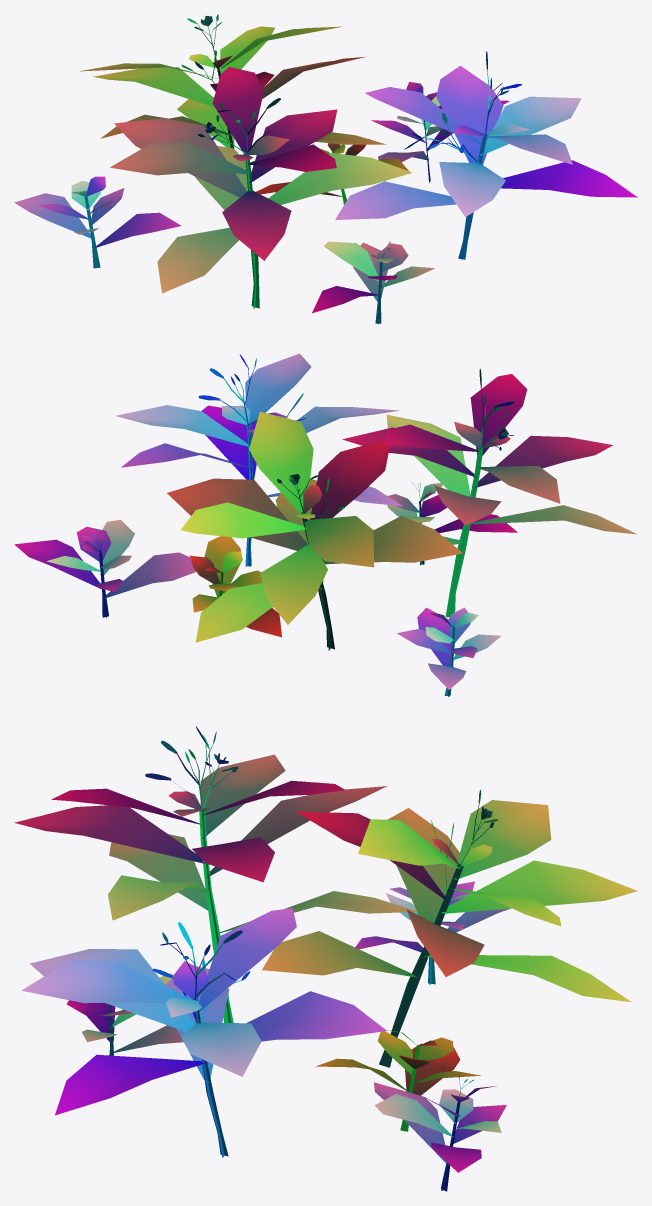
Rendered from xefmcgrqx_VarH_LOD0.fbx.
The picture shows the model from 3 angles, top to bottom: view 1: azimuth 30°, elevation 25°; view 2: azimuth 150°, elevation 25°; view 3: azimuth 270°, elevation 25°; orthographic projection. The views are drawn at different scales.
Parts seen in each view (by area): view 1: _isn6_VarH_LOD3; view 2: _isn6_VarH_LOD3; view 3: _isn6_VarH_LOD3.
Boxes of the visible parts, <box> form: _isn6_VarH_LOD3: <box>14,14,637,324</box>; _isn6_VarH_LOD3: <box>14,353,637,696</box>; _isn6_VarH_LOD3: <box>14,726,637,1191</box>.
Size of the model in its own units: 68.24 by 30.99 by 60.47.
